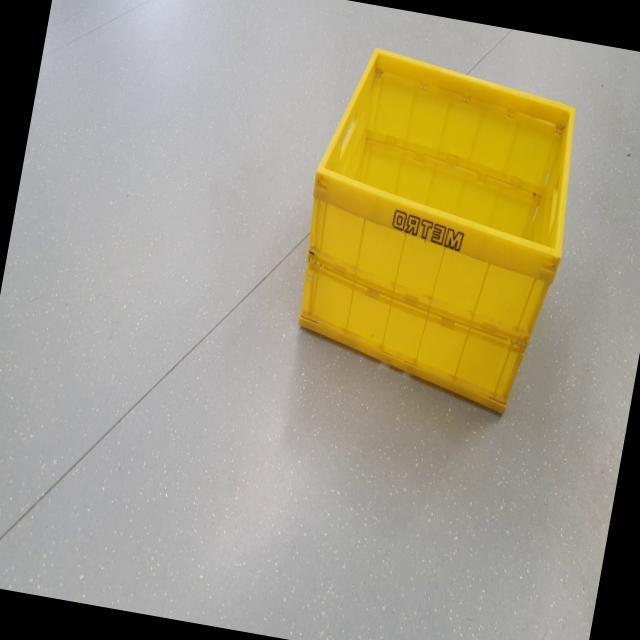box: (275, 19, 602, 428)
